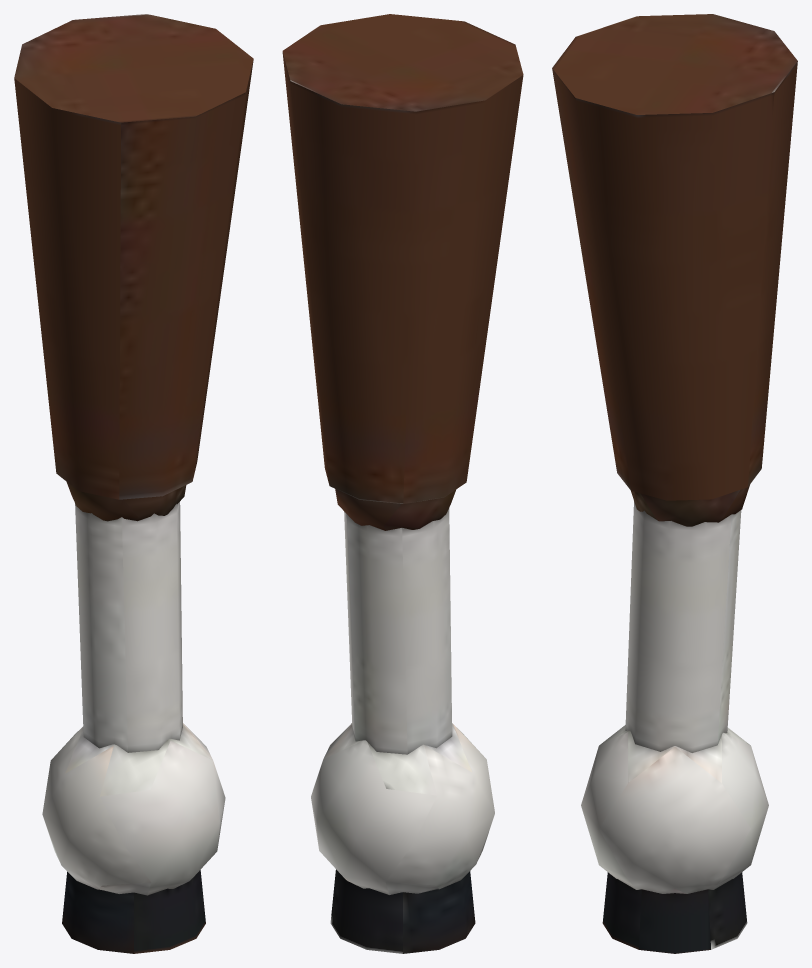
Rendered from clydesdale_pata.glb.
The picture shows the model from 3 angles, left to right: view 1: azimuth 30°, elevation 25°; view 2: azimuth 150°, elevation 25°; view 3: azimuth 270°, elevation 25°; orthographic projection.
Visible parts, largest first — view 1: clydesdale_pata; view 2: clydesdale_pata; view 3: clydesdale_pata.
Boxes of the visible parts, <box> form: clydesdale_pata: <box>14,14,253,953</box>; clydesdale_pata: <box>282,14,523,953</box>; clydesdale_pata: <box>552,14,797,953</box>.
Size of the model in its own units: 0.3234 by 1.32 by 0.3398.
1 material, 1 textured.
